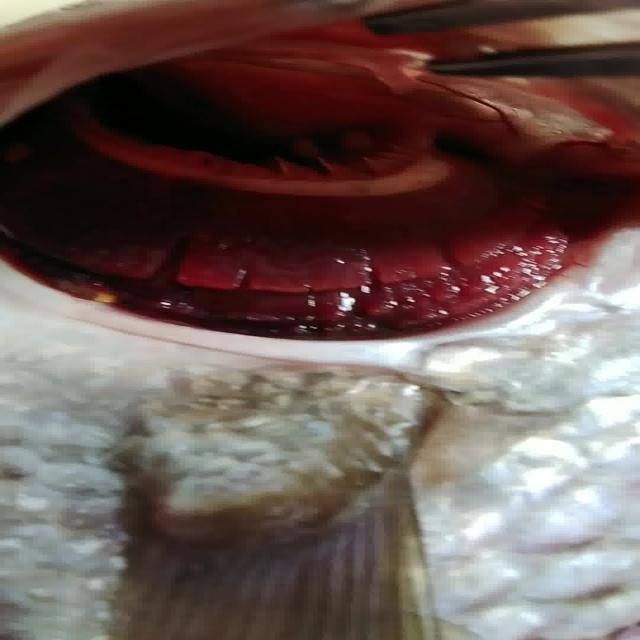Fresh: (18, 53, 640, 396)
